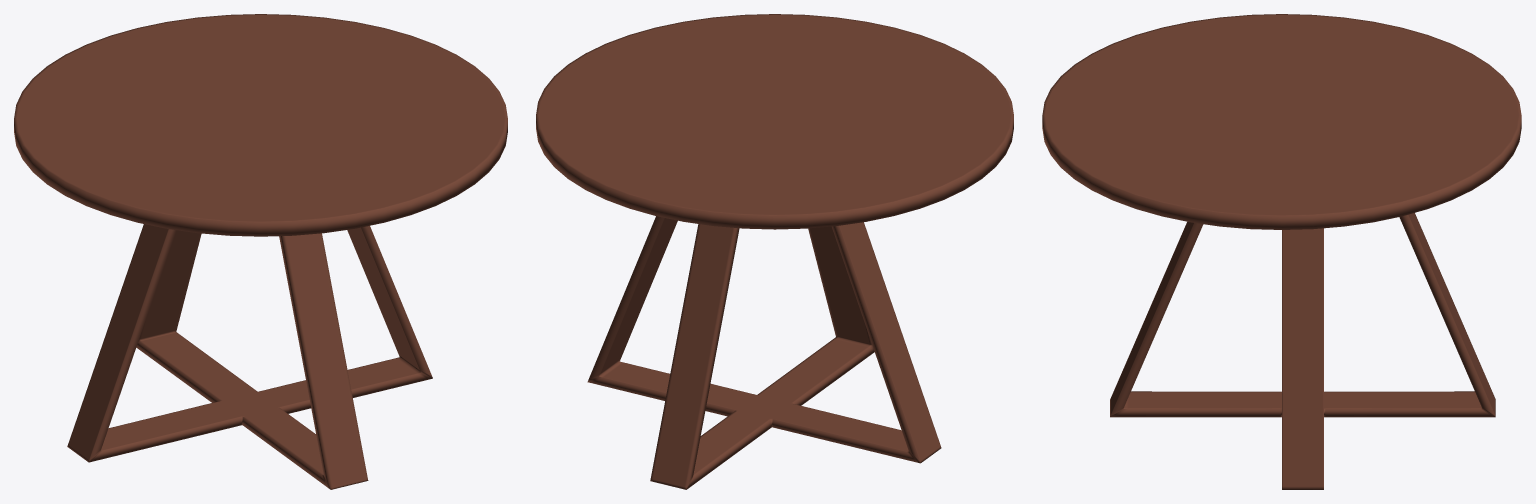
Rendered from Table.glb.
3 views of the same model, side by side, from view 1: azimuth 30°, elevation 25°; view 2: azimuth 150°, elevation 25°; view 3: azimuth 270°, elevation 25° (orthographic). The views are drawn at different scales.
Visible parts, largest first — view 1: Table_7; view 2: Table_7; view 3: Table_7.
Part boxes in pixels (x1,y1,x2,y2): Table_7: [14, 14, 507, 489]; Table_7: [536, 14, 1013, 489]; Table_7: [1042, 14, 1521, 489].
Size of the model in its own units: 3.2 by 2.16 by 3.2.
